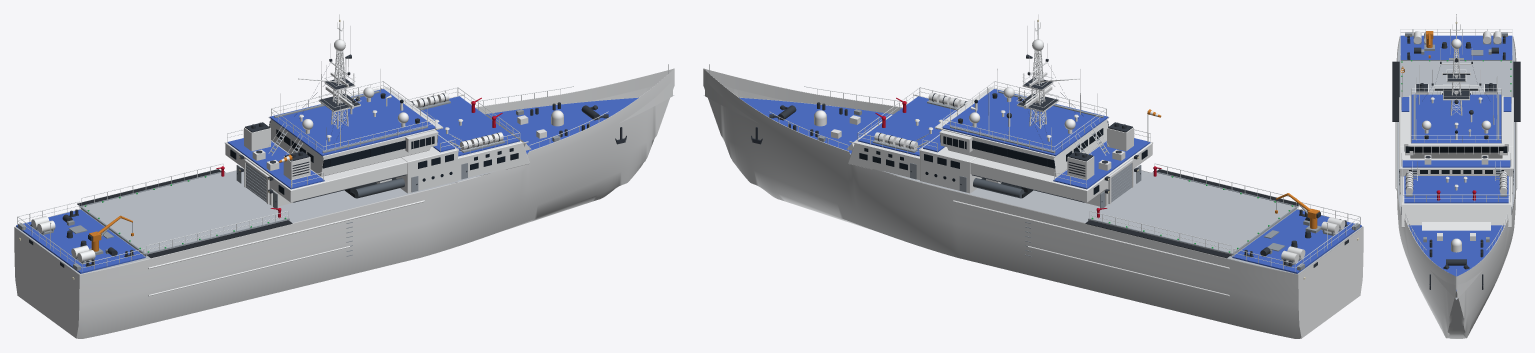
Rendered from brp-gabriela-silang.glb.
The picture shows the model from 3 angles, left to right: view 1: azimuth 30°, elevation 25°; view 2: azimuth 150°, elevation 25°; view 3: azimuth 270°, elevation 25°; orthographic projection. The views are drawn at different scales.
Visible parts, largest first — view 1: Hull, Fittings, Superstructure, Details, SuperDetails, ForeDeck, BowBulwark, MainDeck, SternDetails, Railings, Mast, MastDetails (+1 smaller); view 2: Hull, Fittings, Superstructure, Details, SuperDetails, ForeDeck, BowBulwark, MainDeck, SternDetails, Railings, Mast, MastDetails (+1 smaller); view 3: Fittings, Hull, Superstructure, Details, SuperDetails, ForeDeck, Railings, SternDetails, Mast, BridgeWindows, MainDeck, MastDetails (+2 smaller).
Boxes of the visible parts, bbox=[...] form: Hull: bbox=[14, 68, 674, 338]; Fittings: bbox=[16, 59, 668, 273]; Superstructure: bbox=[225, 96, 529, 206]; Details: bbox=[18, 21, 626, 296]; SuperDetails: bbox=[225, 69, 528, 191]; ForeDeck: bbox=[485, 97, 638, 153]; BowBulwark: bbox=[475, 69, 672, 154]; MainDeck: bbox=[15, 95, 674, 274]; SternDetails: bbox=[19, 149, 292, 279]; Railings: bbox=[17, 87, 520, 271]; Mast: bbox=[318, 39, 360, 128]; MastDetails: bbox=[294, 14, 361, 143]; Hull: bbox=[703, 68, 1363, 338]; Fittings: bbox=[709, 64, 1361, 273]; Superstructure: bbox=[848, 96, 1152, 206]; Details: bbox=[751, 21, 1359, 296]; SuperDetails: bbox=[849, 69, 1152, 191]; ForeDeck: bbox=[739, 97, 892, 153]; BowBulwark: bbox=[705, 69, 902, 154]; MainDeck: bbox=[703, 95, 1362, 274]; SternDetails: bbox=[1088, 109, 1358, 279]; Railings: bbox=[857, 87, 1360, 271]; Mast: bbox=[1017, 39, 1059, 128]; MastDetails: bbox=[1016, 14, 1083, 143]; Fittings: bbox=[1399, 31, 1513, 289]; Hull: bbox=[1396, 36, 1516, 338]; Superstructure: bbox=[1399, 96, 1513, 227]; Details: bbox=[1392, 30, 1520, 289]; SuperDetails: bbox=[1399, 77, 1513, 206]; ForeDeck: bbox=[1408, 225, 1504, 290]; Railings: bbox=[1400, 29, 1512, 201]; SternDetails: bbox=[1399, 14, 1513, 97]; Mast: bbox=[1433, 39, 1479, 115]; BridgeWindows: bbox=[1409, 146, 1503, 152]; MainDeck: bbox=[1397, 38, 1515, 299]; MastDetails: bbox=[1443, 17, 1484, 114].
Size of the model in its own units: 84.28 by 31.7 by 17.2.
